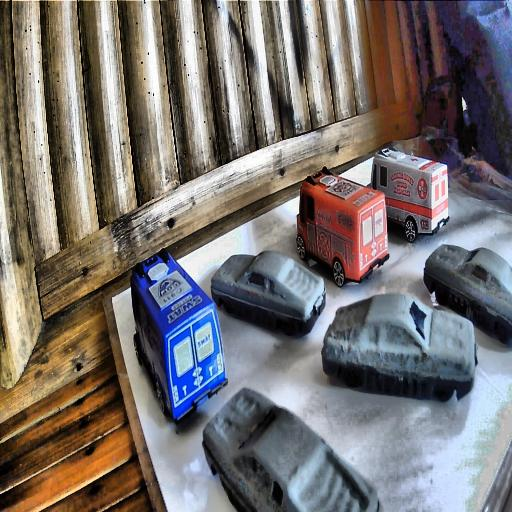ambulance: (369, 144, 449, 242)
fire_truck: (293, 166, 387, 286)
normal_car: (206, 386, 374, 511), (322, 296, 475, 404), (212, 250, 324, 339), (424, 245, 510, 345)
police car: (132, 245, 230, 420)
